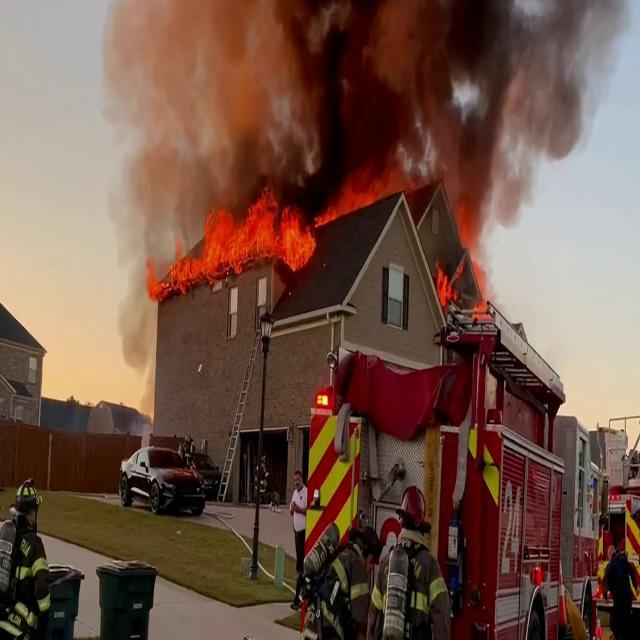Fire: (163, 188, 317, 282), (432, 258, 454, 312)
Smoke: (95, 1, 606, 218)
